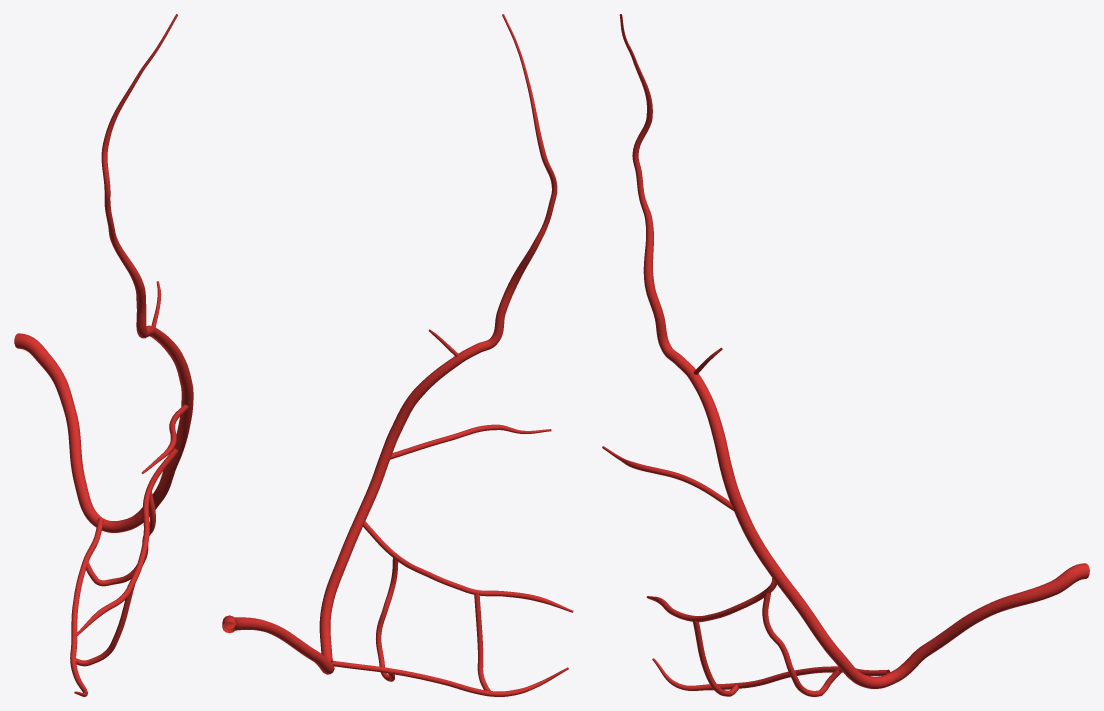
The model's file is circulatorio-facial-vein-l.glb.
3 renders of one model, left to right at view 1: azimuth 30°, elevation 25°; view 2: azimuth 150°, elevation 25°; view 3: azimuth 270°, elevation 25°, orthographic. The views are drawn at different scales.
Visible parts, largest first — view 1: Facial vein.l, Angular vein.l, Inferior labial veins.l, Submental vein.l, Superior labial vein.l; view 2: Facial vein.l, Angular vein.l, Inferior labial veins.l, Submental vein.l, Superior labial vein.l; view 3: Facial vein.l, Angular vein.l, Inferior labial veins.l, Submental vein.l, Superior labial vein.l.
Part boxes in pixels (bbox=[...]): Facial vein.l: bbox=[14, 333, 193, 532]; Angular vein.l: bbox=[101, 14, 179, 356]; Inferior labial veins.l: bbox=[74, 448, 178, 666]; Submental vein.l: bbox=[70, 517, 103, 696]; Superior labial vein.l: bbox=[141, 404, 188, 473]; Facial vein.l: bbox=[222, 389, 422, 674]; Angular vein.l: bbox=[414, 14, 557, 396]; Inferior labial veins.l: bbox=[363, 521, 573, 691]; Submental vein.l: bbox=[330, 660, 568, 696]; Superior labial vein.l: bbox=[390, 424, 551, 459]; Facial vein.l: bbox=[711, 427, 1089, 688]; Angular vein.l: bbox=[619, 14, 722, 430]; Inferior labial veins.l: bbox=[646, 578, 841, 696]; Submental vein.l: bbox=[652, 658, 890, 690]; Superior labial vein.l: bbox=[602, 446, 733, 510].
Bounding box in the file's own units: 0.0347 × 0.1271 × 0.0795.
